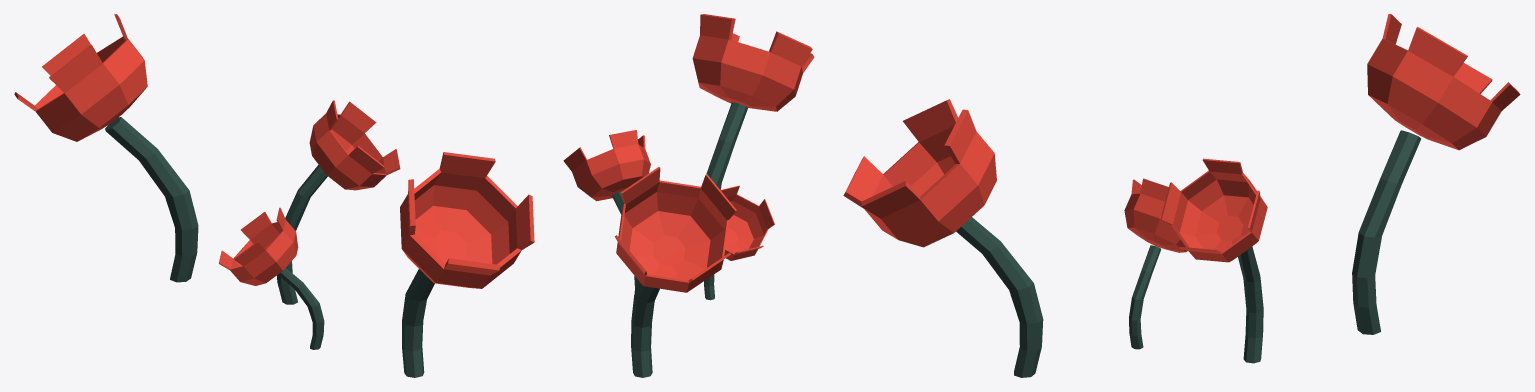
The model's file is Pot_2c_plantcluster.fbx.
3 renders of one model, left to right at view 1: azimuth 30°, elevation 25°; view 2: azimuth 150°, elevation 25°; view 3: azimuth 270°, elevation 25°, orthographic. The views are drawn at different scales.
Parts seen in each view (by area): view 1: Circle.007; view 2: Circle.007; view 3: Circle.007.
Part boxes in pixels (x1,y1,x2,y2): Circle.007: (14,14,534,377); Circle.007: (563,14,814,377); Circle.007: (843,14,1520,377).
Bounding box in the file's own units: 91.94 × 80.36 × 175.
